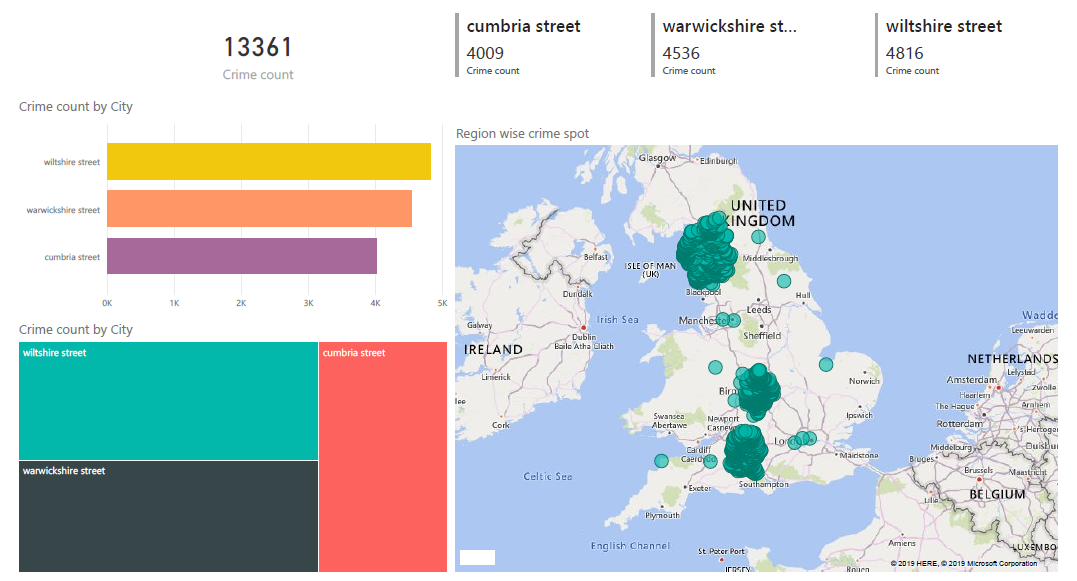

Layout of this report page (visuals, bound fields, positions):
{"tool":"powerbi","page":{"name":"Page 4","canvas":[1280,720],"ordinal":3},"visuals":[{"type":"map","title":"Region wise crime spot","fields":{"Y":["all_cities.Latitude"],"X":["all_cities.Longitude"]},"box":[534.1,168,746.2,552],"z":0},{"type":"card","fields":{"Values":["Sum(all_cities.Crime count)"]},"box":[184.5,27.5,225.8,106],"z":4},{"type":"multiRowCard","fields":{"Values":["city_table.City","Sum(all_cities.Crime count)"]},"box":[534.1,27.5,191.4,106],"z":5},{"type":"barChart","fields":{"Category":["city_table.City"],"Y":["Sum(all_cities.count)"]},"box":[0,133.5,534.1,269.8],"z":1000},{"type":"treemap","fields":{"Group":["city_table.City"],"Values":["Sum(all_cities.Crime count)"]},"box":[0,407.5,534.1,312.5],"z":2000},{"type":"multiRowCard","fields":{"Values":["city_table.City","Sum(all_cities.Crime count)"]},"box":[773.7,27.5,191.4,106],"z":2001},{"type":"multiRowCard","fields":{"Values":["city_table.City","Sum(all_cities.Crime count)"]},"box":[1047.6,27.5,191.4,106],"z":2002}]}

Visuals, with their boxes on the page's 1280x720 design canvas (x1, y1, x2, y2). These are canvas units, not pixel positions in the 1077x581 screenshot, which may show the page scaled, cropped or inside an application window:
"Region wise crime spot" map: <box>534,168,1280,720</box>
card - Sum(all_cities.Crime count): <box>184,28,410,134</box>
multiRowCard - city_table.City x Sum(all_cities.Crime count): <box>534,28,726,134</box>
barChart - city_table.City x Sum(all_cities.count): <box>0,134,534,403</box>
treemap - city_table.City x Sum(all_cities.Crime count): <box>0,408,534,720</box>
multiRowCard - city_table.City x Sum(all_cities.Crime count): <box>774,28,965,134</box>
multiRowCard - city_table.City x Sum(all_cities.Crime count): <box>1048,28,1239,134</box>
